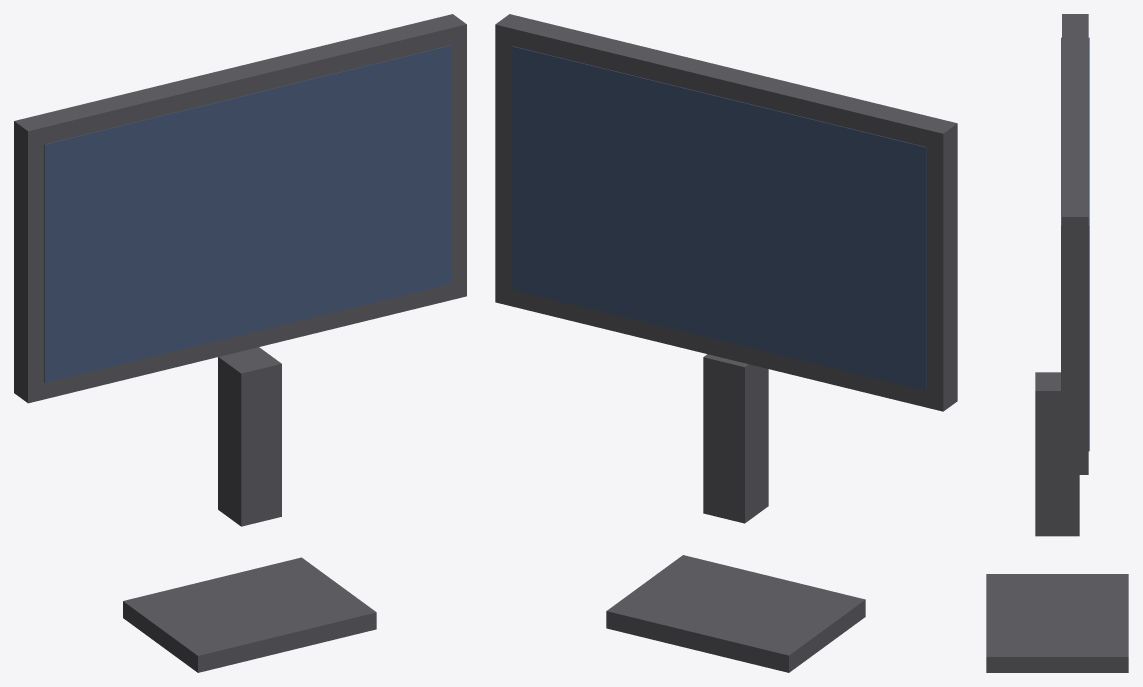
File: office_monitor.glb
3 views of the same model, side by side, from view 1: azimuth 30°, elevation 25°; view 2: azimuth 150°, elevation 25°; view 3: azimuth 270°, elevation 25° (orthographic). The views are drawn at different scales.
Visible parts, largest first — view 1: OFFICE_MONITOR_v01; view 2: OFFICE_MONITOR_v01; view 3: OFFICE_MONITOR_v01.
Boxes of the visible parts, bbox=[...] form: OFFICE_MONITOR_v01: bbox=[14, 14, 466, 672]; OFFICE_MONITOR_v01: bbox=[495, 14, 957, 672]; OFFICE_MONITOR_v01: bbox=[986, 14, 1128, 672].
Bounding box in the file's own units: 0.54 × 0.64 × 0.16.
